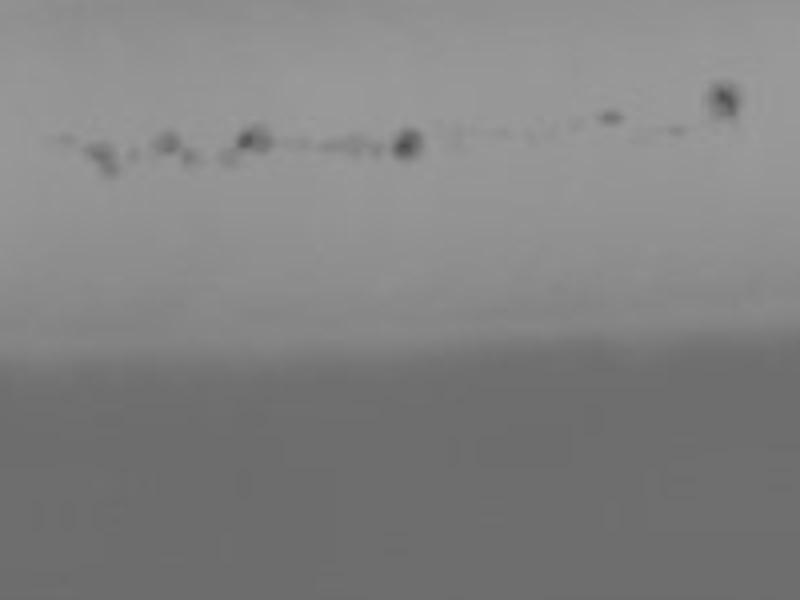defect: (319, 131, 381, 164), (706, 75, 748, 118), (81, 141, 118, 180), (237, 120, 277, 155), (392, 124, 424, 162), (151, 125, 184, 154), (478, 121, 512, 141), (182, 151, 206, 175), (218, 145, 243, 168), (560, 114, 587, 134), (596, 109, 626, 126), (123, 142, 144, 163), (53, 123, 72, 144), (669, 120, 688, 140), (289, 133, 310, 151), (522, 127, 537, 150)
